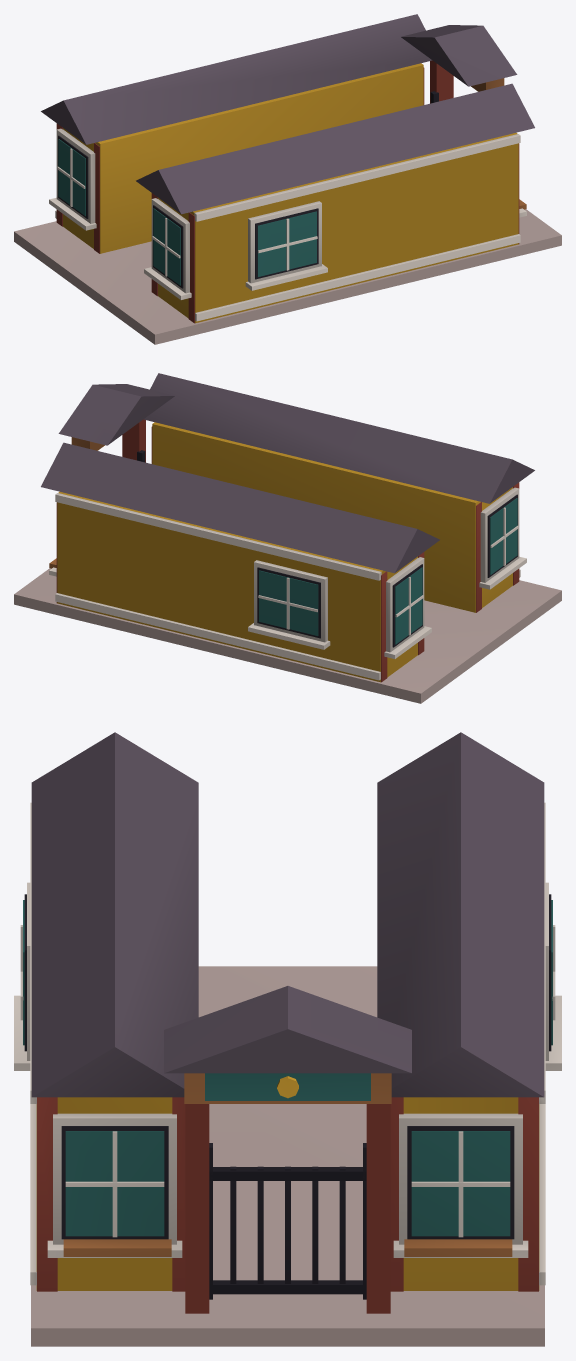
Rendered from bld.zoo-gate.lod1.glb.
3 views of the same model, one above another, from view 1: azimuth 30°, elevation 25°; view 2: azimuth 150°, elevation 25°; view 3: azimuth 270°, elevation 25° (orthographic). The views are drawn at different scales.
Visible parts, largest first — view 1: body, roof; view 2: body, roof; view 3: body, roof.
Boxes of the visible parts, x1,y1,x2,y2 form: body: [14, 60, 561, 344]; roof: [41, 14, 534, 214]; body: [14, 419, 561, 703]; roof: [41, 373, 534, 573]; body: [14, 802, 561, 1346]; roof: [31, 732, 544, 1097].
Bounding box in the file's own units: 10 × 4 × 6.4.
